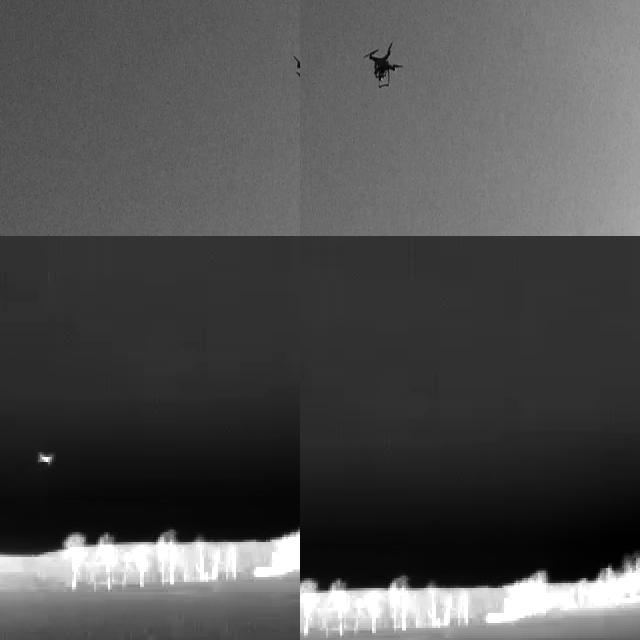1: (25, 446, 65, 480)
drone: (365, 39, 406, 86), (292, 50, 300, 100)
